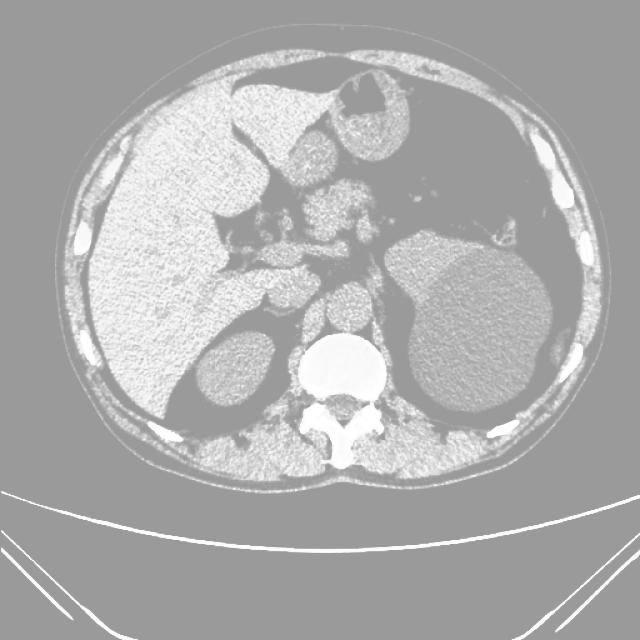cysts: (58, 38, 608, 492)
